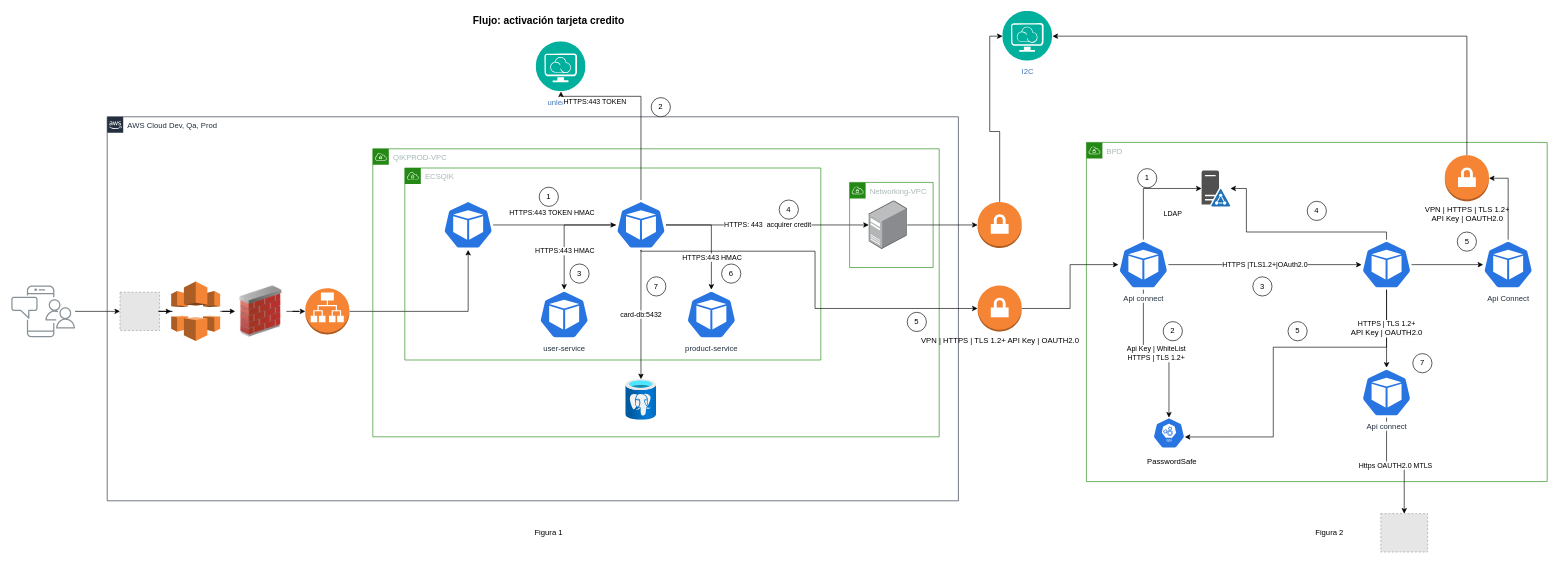
Some shapes in this 1558 by 563 pixel diagram are drawn without their labels. Grey dashed boxes stand in for pictures. Each missing label, with the centre of its shape:
Active directory: (x=1215, y=188)
Application Load Balancer: (x=327, y=311)
card-db: (x=640, y=399)
card-service: (x=640, y=224)
cloudfront: (x=195, y=311)
GraphQL Service: (x=468, y=224)
Mobile Client: (x=43, y=311)
payments-gateway-service: (x=1386, y=264)
Proxy: (x=887, y=224)
VPN | HTTPS TLS1.2+|Basic Auth: (x=999, y=224)
